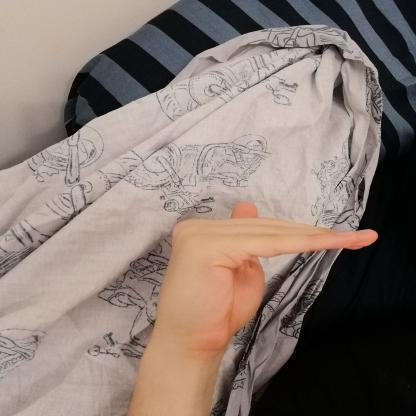KHAA: (129, 191, 396, 348)
